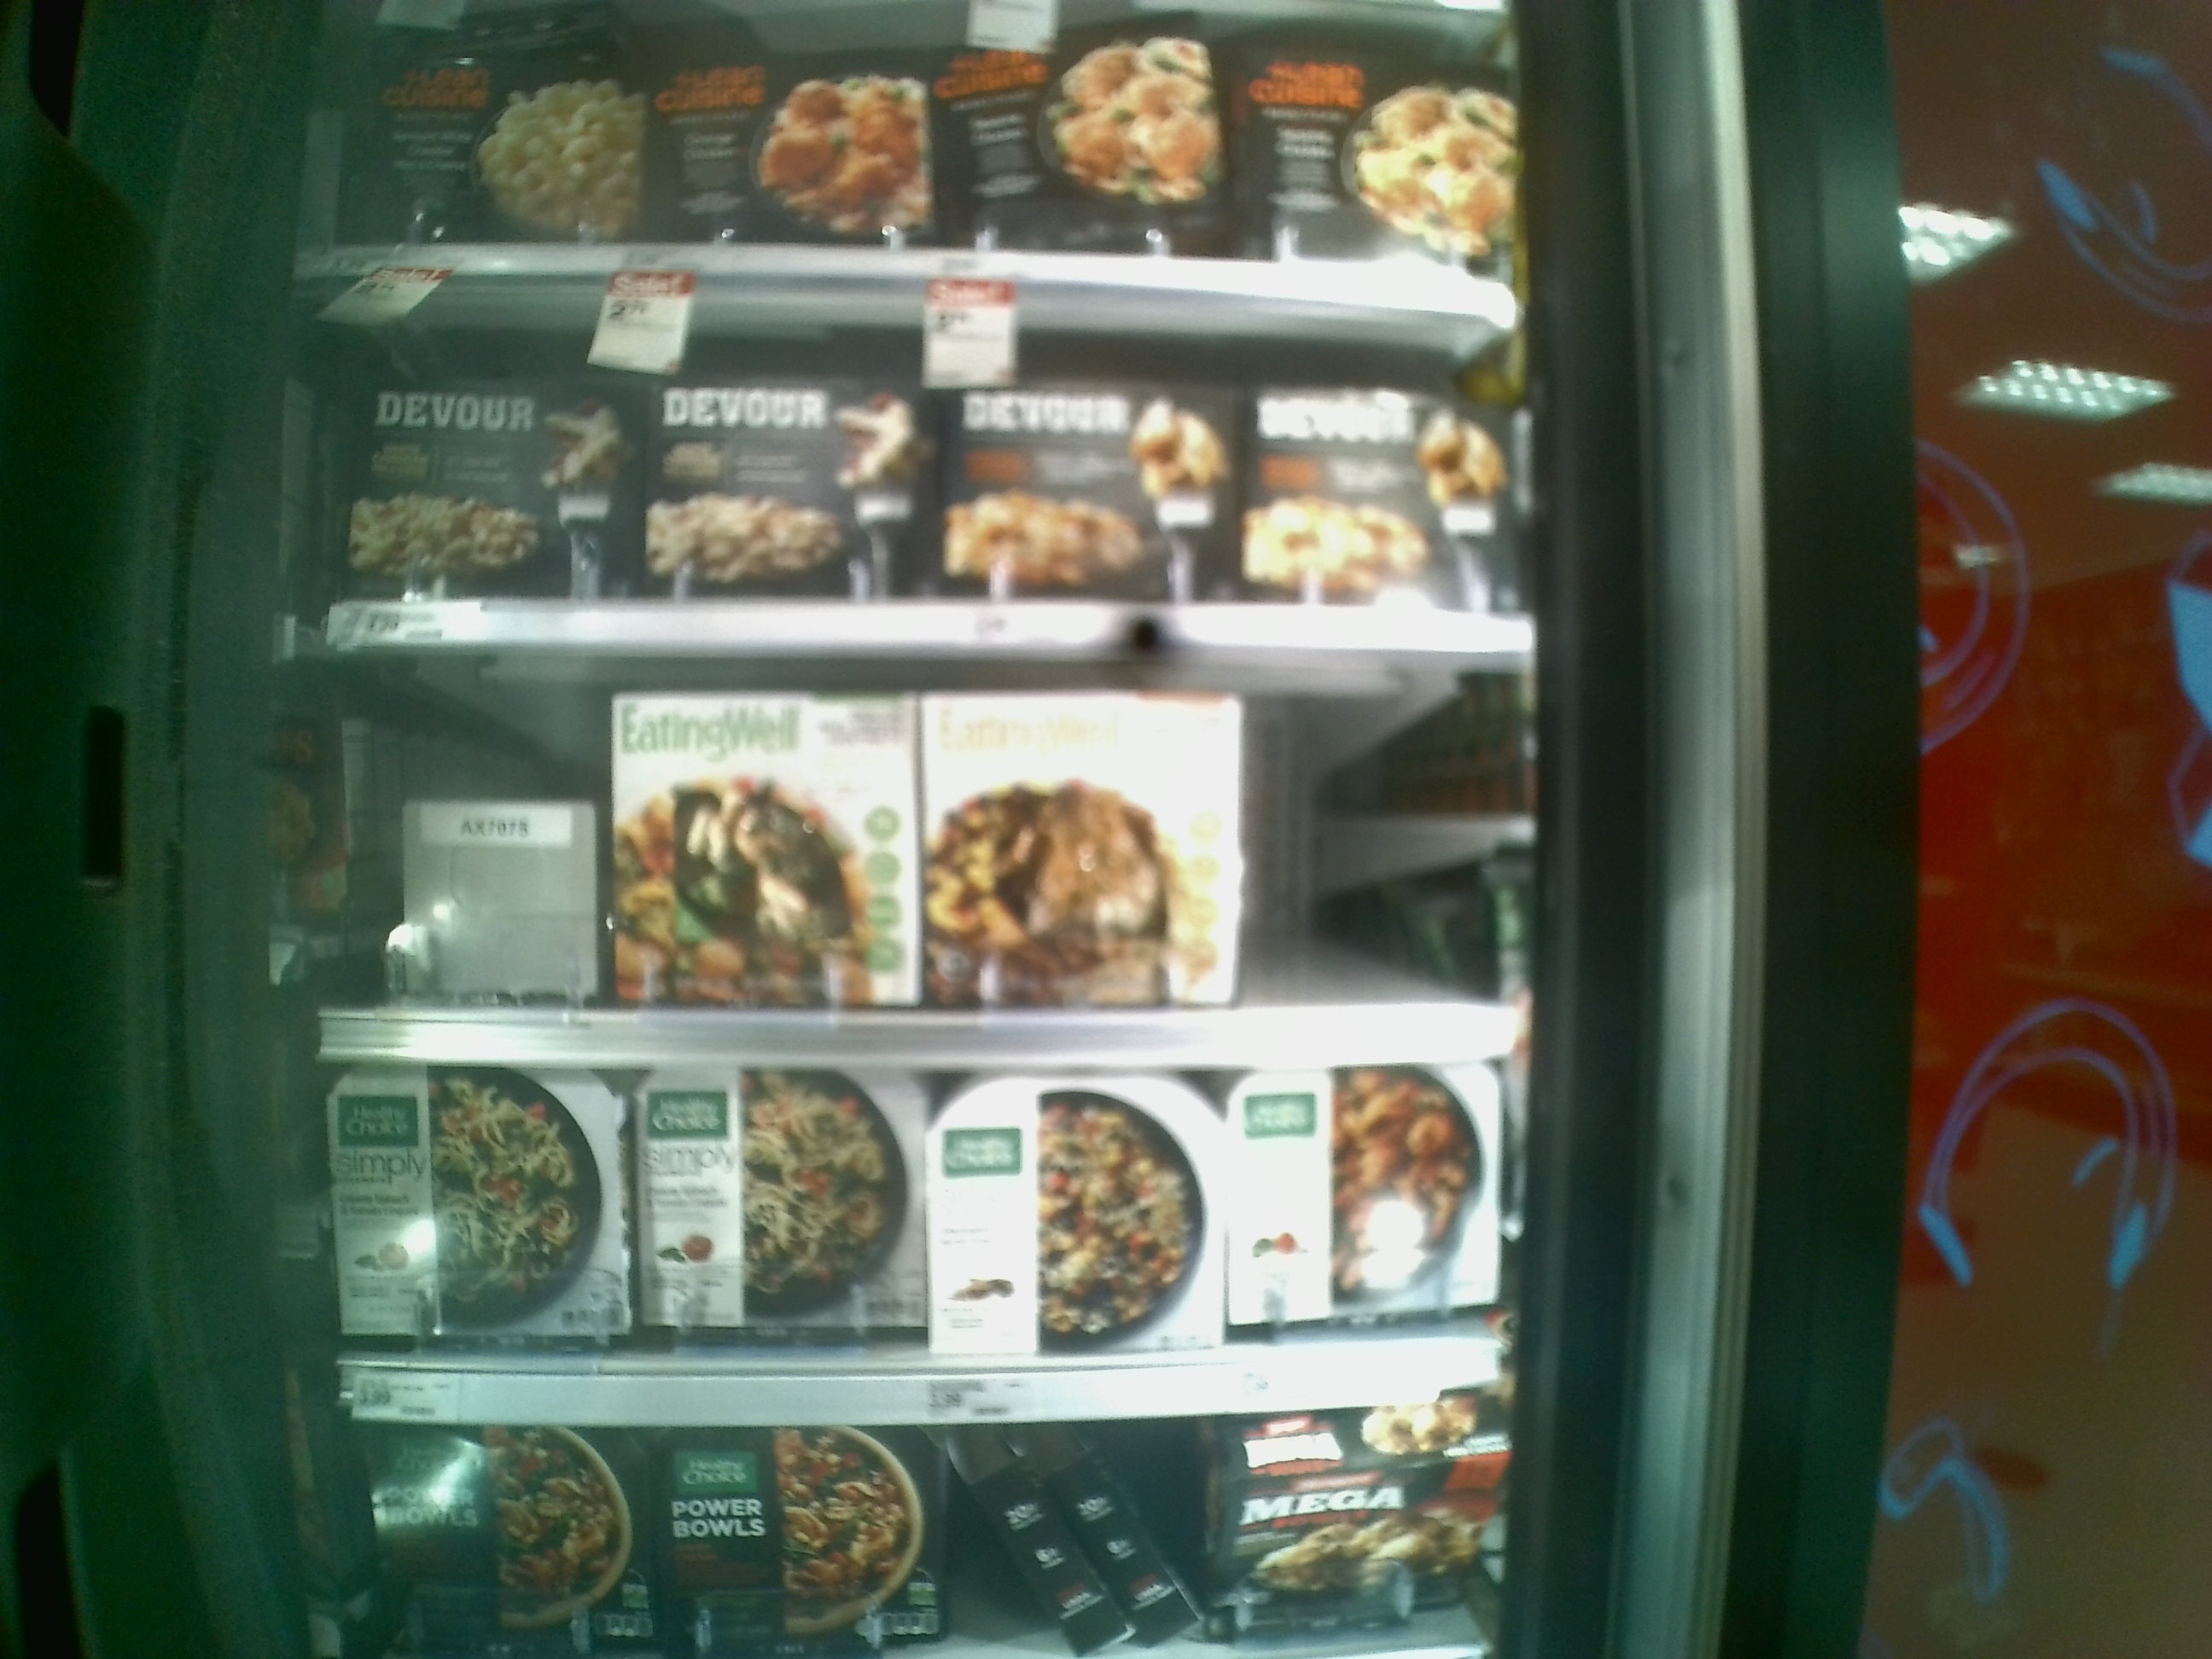shelf: (296, 650, 1519, 1061), (296, 272, 1547, 650), (310, 1061, 1526, 1427)
